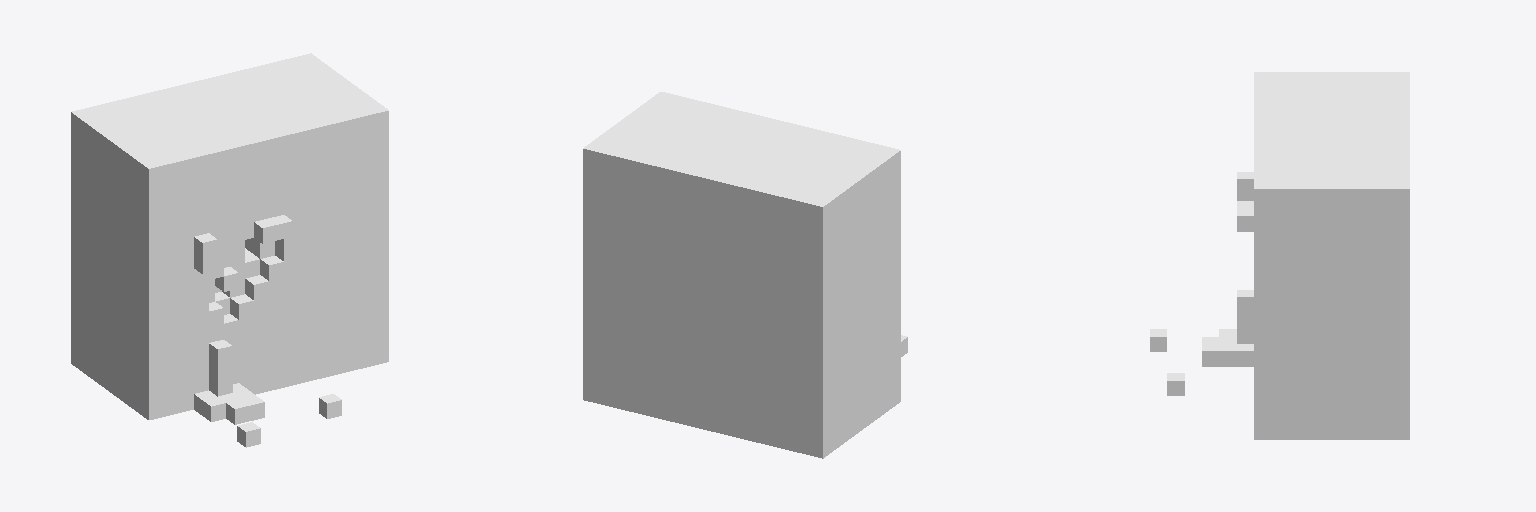
The model's file is wall_patterned_3.obj.
3 renders of one model, left to right at view 1: azimuth 30°, elevation 25°; view 2: azimuth 150°, elevation 25°; view 3: azimuth 270°, elevation 25°, orthographic.
Size of the model in its own units: 16 by 16 by 15.